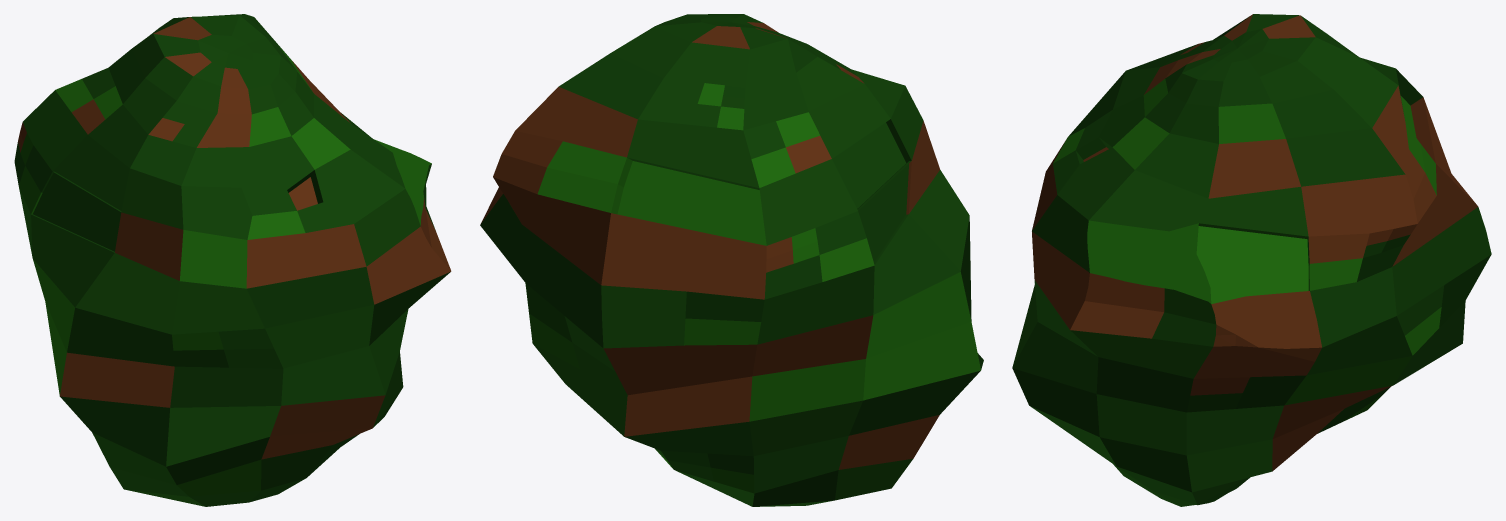
File: CarbonStone.fbx
3 renders of one model, left to right at view 1: azimuth 30°, elevation 25°; view 2: azimuth 150°, elevation 25°; view 3: azimuth 270°, elevation 25°, orthographic. The views are drawn at different scales.
Visible parts, largest first — view 1: Sphere; view 2: Sphere; view 3: Sphere.
Part boxes in pixels (x1,y1,x2,y2): Sphere: (14, 14, 451, 506); Sphere: (480, 14, 983, 506); Sphere: (1012, 14, 1491, 506).
Size of the model in its own units: 184 by 197 by 187.
